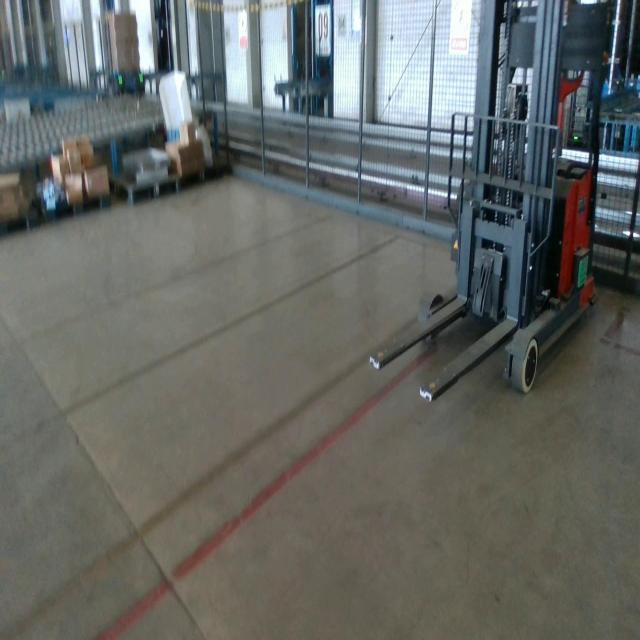forklift: (367, 0, 609, 406)
